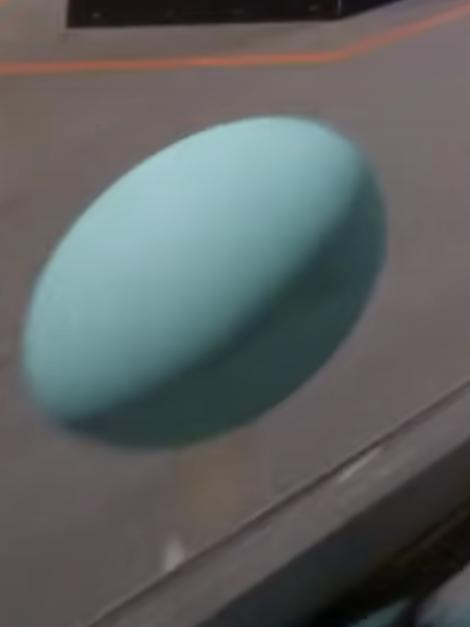algae: (22, 117, 385, 450)
coral: (163, 409, 271, 572)
